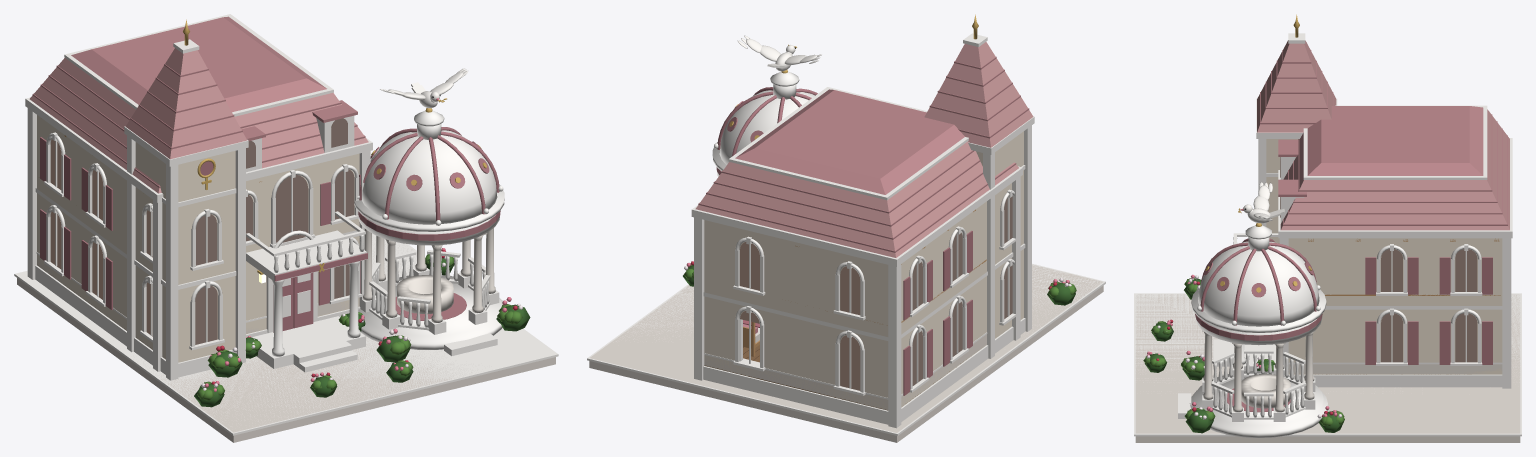
The model's file is aphrodite_cabin.glb.
3 renders of one model, left to right at view 1: azimuth 30°, elevation 25°; view 2: azimuth 150°, elevation 25°; view 3: azimuth 270°, elevation 25°, orthographic. The views are drawn at different scales.
Visible parts, largest first — view 1: APH_white_trim, APH_dusty_rose, APH_slate_a, APH_paving, APH_slate_b, APH_rose_deep, APH_window, APH_marble, APH_leaf, APH_leaf_light, DOOR_leaf_R, APH_dove (+3 smaller); view 2: APH_white_trim, APH_dusty_rose, APH_slate_a, APH_slate_b, APH_paving, APH_window, APH_rose_deep, INT_wash, APH_dove, INT_trim; view 3: APH_white_trim, APH_paving, APH_slate_a, APH_dusty_rose, APH_slate_b, APH_rose_deep, APH_window, APH_marble, INT_wash, APH_leaf, APH_leaf_light, APH_dove.
Boxes of the visible parts, x1=… form: APH_white_trim: x1=14, y1=14, x2=558, y2=435; APH_dusty_rose: x1=37, y1=115, x2=359, y2=362; APH_slate_a: x1=29, y1=48, x2=368, y2=193; APH_paving: x1=17, y1=234, x2=555, y2=442; APH_slate_b: x1=32, y1=16, x2=365, y2=187; APH_rose_deep: x1=40, y1=127, x2=500, y2=320; APH_window: x1=50, y1=118, x2=354, y2=344; APH_marble: x1=363, y1=228, x2=495, y2=322; APH_leaf: x1=194, y1=258, x2=530, y2=407; APH_leaf_light: x1=197, y1=254, x2=522, y2=400; DOOR_leaf_R: x1=293, y1=273, x2=313, y2=328; APH_dove: x1=380, y1=68, x2=468, y2=108; APH_white_trim: x1=587, y1=33, x2=1105, y2=435; APH_dusty_rose: x1=704, y1=131, x2=1023, y2=410; APH_slate_a: x1=695, y1=42, x2=1033, y2=257; APH_slate_b: x1=698, y1=56, x2=1029, y2=252; APH_paving: x1=589, y1=264, x2=1103, y2=442; APH_window: x1=740, y1=196, x2=1012, y2=390; APH_rose_deep: x1=716, y1=87, x2=972, y2=395; INT_wash: x1=704, y1=334, x2=986, y2=409; APH_dove: x1=737, y1=35, x2=821, y2=71; INT_trim: x1=704, y1=315, x2=987, y2=399; APH_white_trim: x1=1134, y1=33, x2=1521, y2=437; APH_paving: x1=1135, y1=294, x2=1520, y2=442; APH_slate_a: x1=1257, y1=40, x2=1509, y2=230; APH_dusty_rose: x1=1266, y1=139, x2=1502, y2=374; APH_slate_b: x1=1260, y1=50, x2=1507, y2=225; APH_rose_deep: x1=1195, y1=238, x2=1492, y2=412; APH_window: x1=1280, y1=157, x2=1477, y2=362; APH_marble: x1=1202, y1=330, x2=1315, y2=412; INT_wash: x1=1288, y1=364, x2=1502, y2=373; APH_leaf: x1=1144, y1=279, x2=1343, y2=433; APH_leaf_light: x1=1143, y1=278, x2=1344, y2=425; APH_dove: x1=1243, y1=182, x2=1284, y2=223.
Size of what is drawn, in the model's own units: 10.18 by 10.08 by 11.5.
